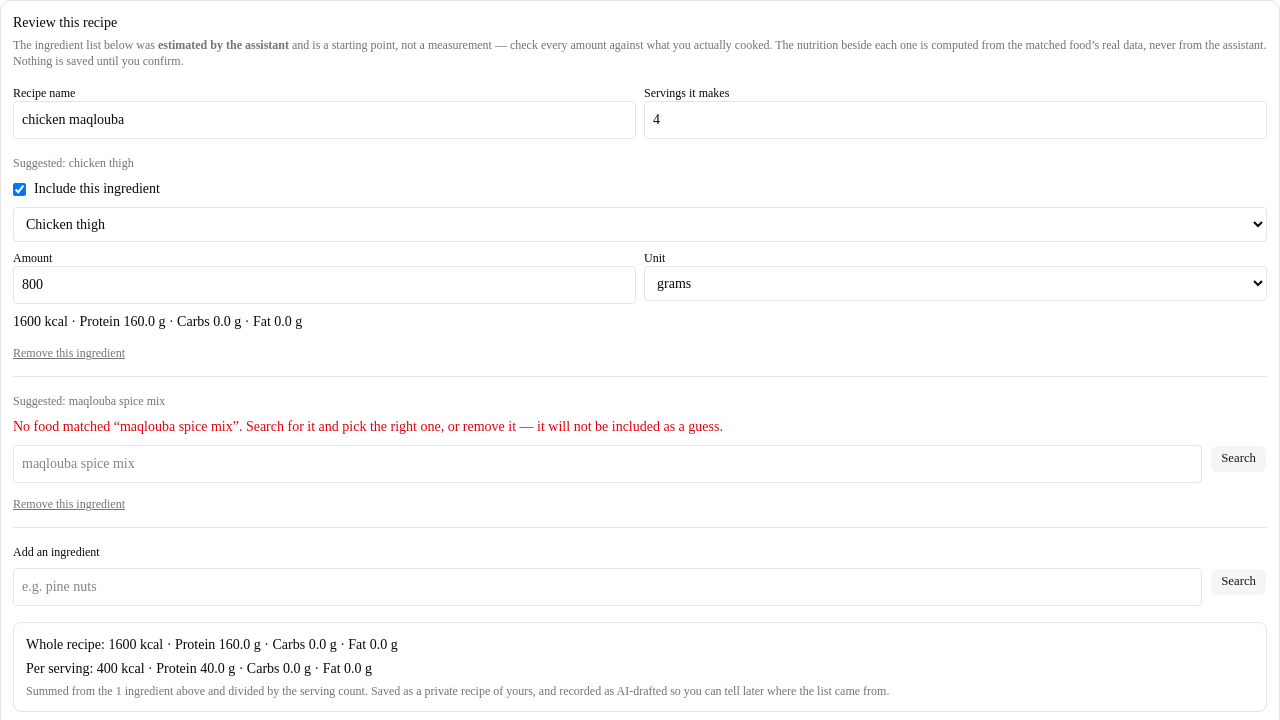
Test case: RecipeDraftReview — an unresolved ingredient › can be removed, after which the recipe saves
Click the button "Remove this ingredient" below "No food matched “". click: [69, 504]
box: left=13, top=496, right=125, bottom=512
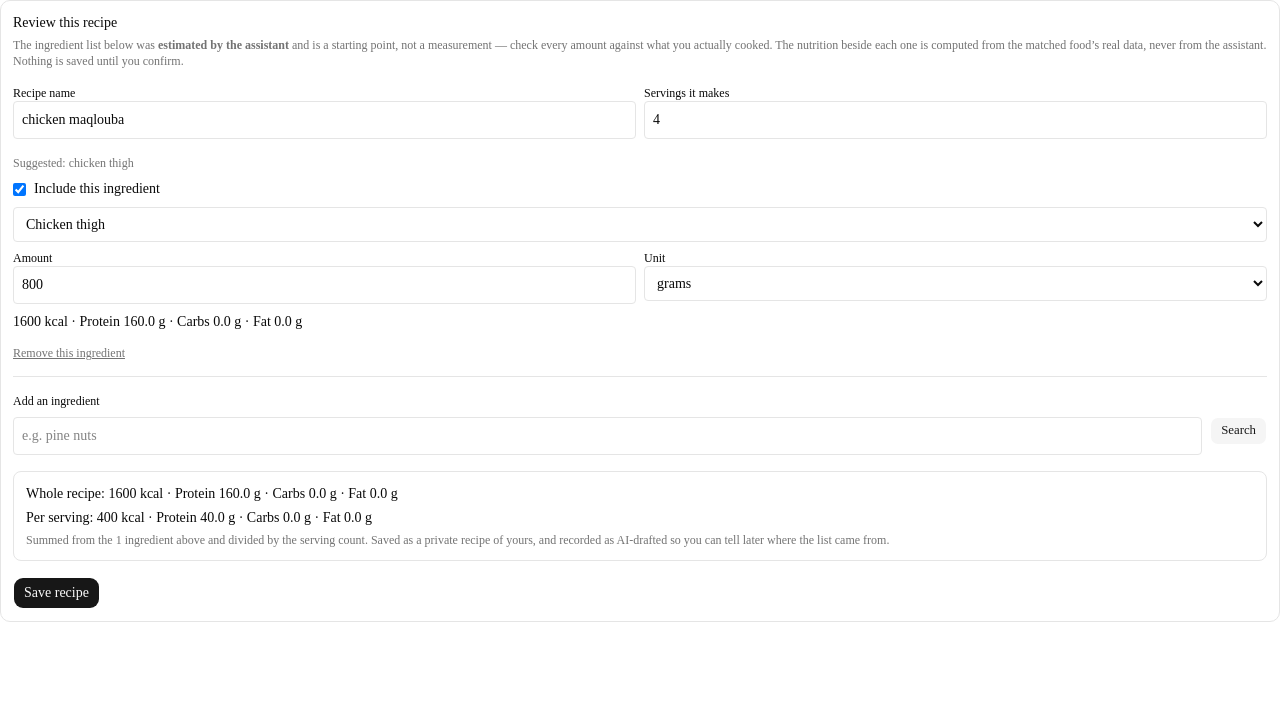
Expected: the text "No food matched" is gone
Expected: the button "Save recipe" is enabled, left=13, top=577, right=100, bottom=609
